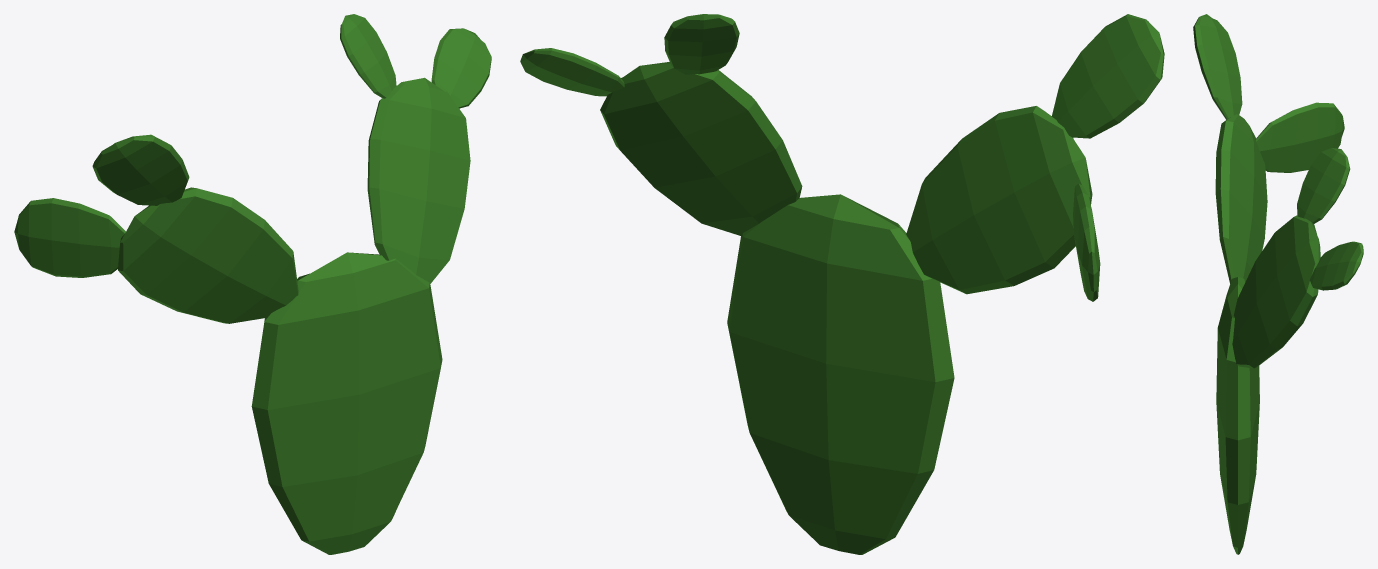
The model's file is Cactus_28_A.fbx.
3 views of the same model, side by side, from view 1: azimuth 30°, elevation 25°; view 2: azimuth 150°, elevation 25°; view 3: azimuth 270°, elevation 25° (orthographic). The views are drawn at different scales.
Visible parts, largest first — view 1: Cactus_28_A; view 2: Cactus_28_A; view 3: Cactus_28_A.
Part boxes in pixels (left/top/right/bottom): Cactus_28_A: left=14, top=14, right=491, bottom=554; Cactus_28_A: left=520, top=14, right=1164, bottom=554; Cactus_28_A: left=1193, top=14, right=1363, bottom=554.
Bounding box in the file's own units: 166 × 162 × 58.27.
